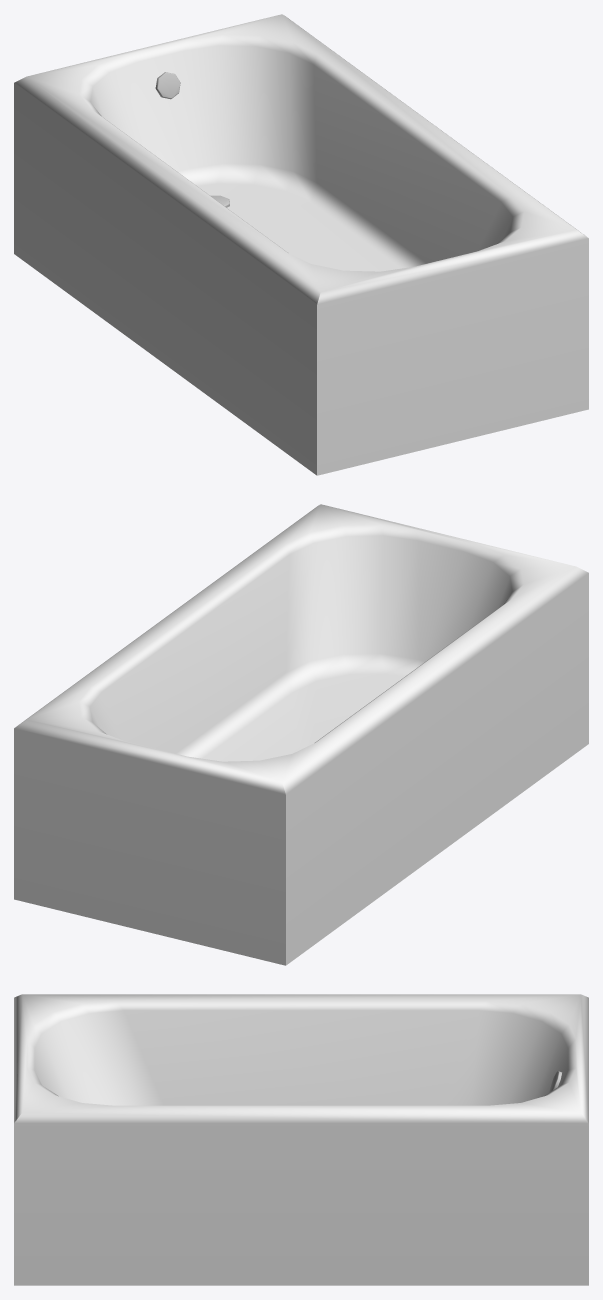
The model's file is bathroom_001.fbx.
3 renders of one model, top to bottom at view 1: azimuth 30°, elevation 25°; view 2: azimuth 150°, elevation 25°; view 3: azimuth 270°, elevation 25°, orthographic. The views are drawn at different scales.
Visible parts, largest first — view 1: bathroom_001; view 2: bathroom_001; view 3: bathroom_001.
Boxes of the visible parts, box(x1,y1,x2,y2) form: bathroom_001: box(14, 14, 588, 475); bathroom_001: box(14, 504, 588, 965); bathroom_001: box(14, 994, 588, 1285).
Size of the model in its own units: 127 by 245 by 79.57.
